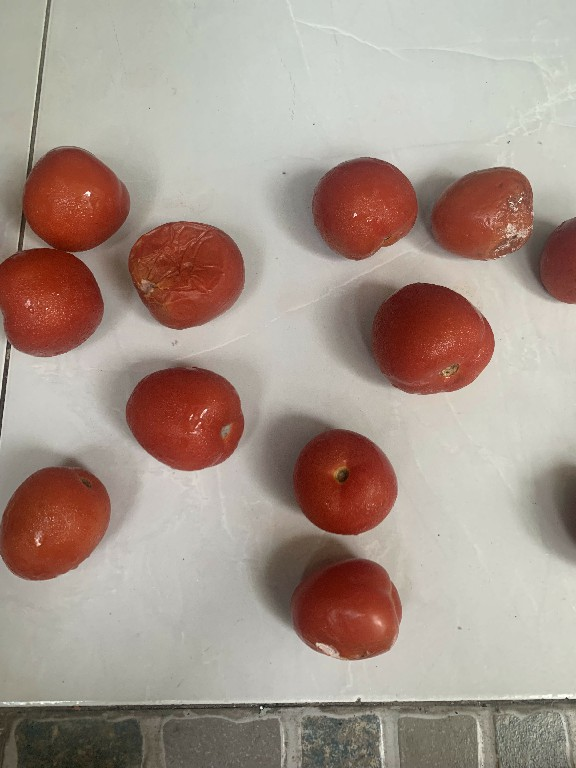NG: (124, 212, 253, 331), (288, 553, 411, 673), (424, 154, 539, 266)
OK: (0, 457, 124, 593), (364, 276, 501, 397), (123, 353, 253, 477), (14, 138, 137, 259), (289, 424, 415, 541), (0, 246, 113, 364), (307, 154, 422, 269)
